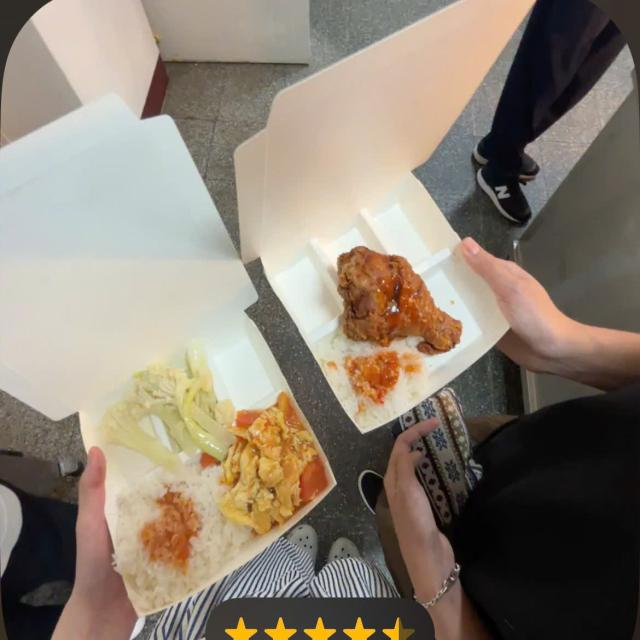com_trang: (99, 501, 237, 592)
ga_chien: (340, 250, 467, 345)
trung_chien: (230, 426, 319, 514)
